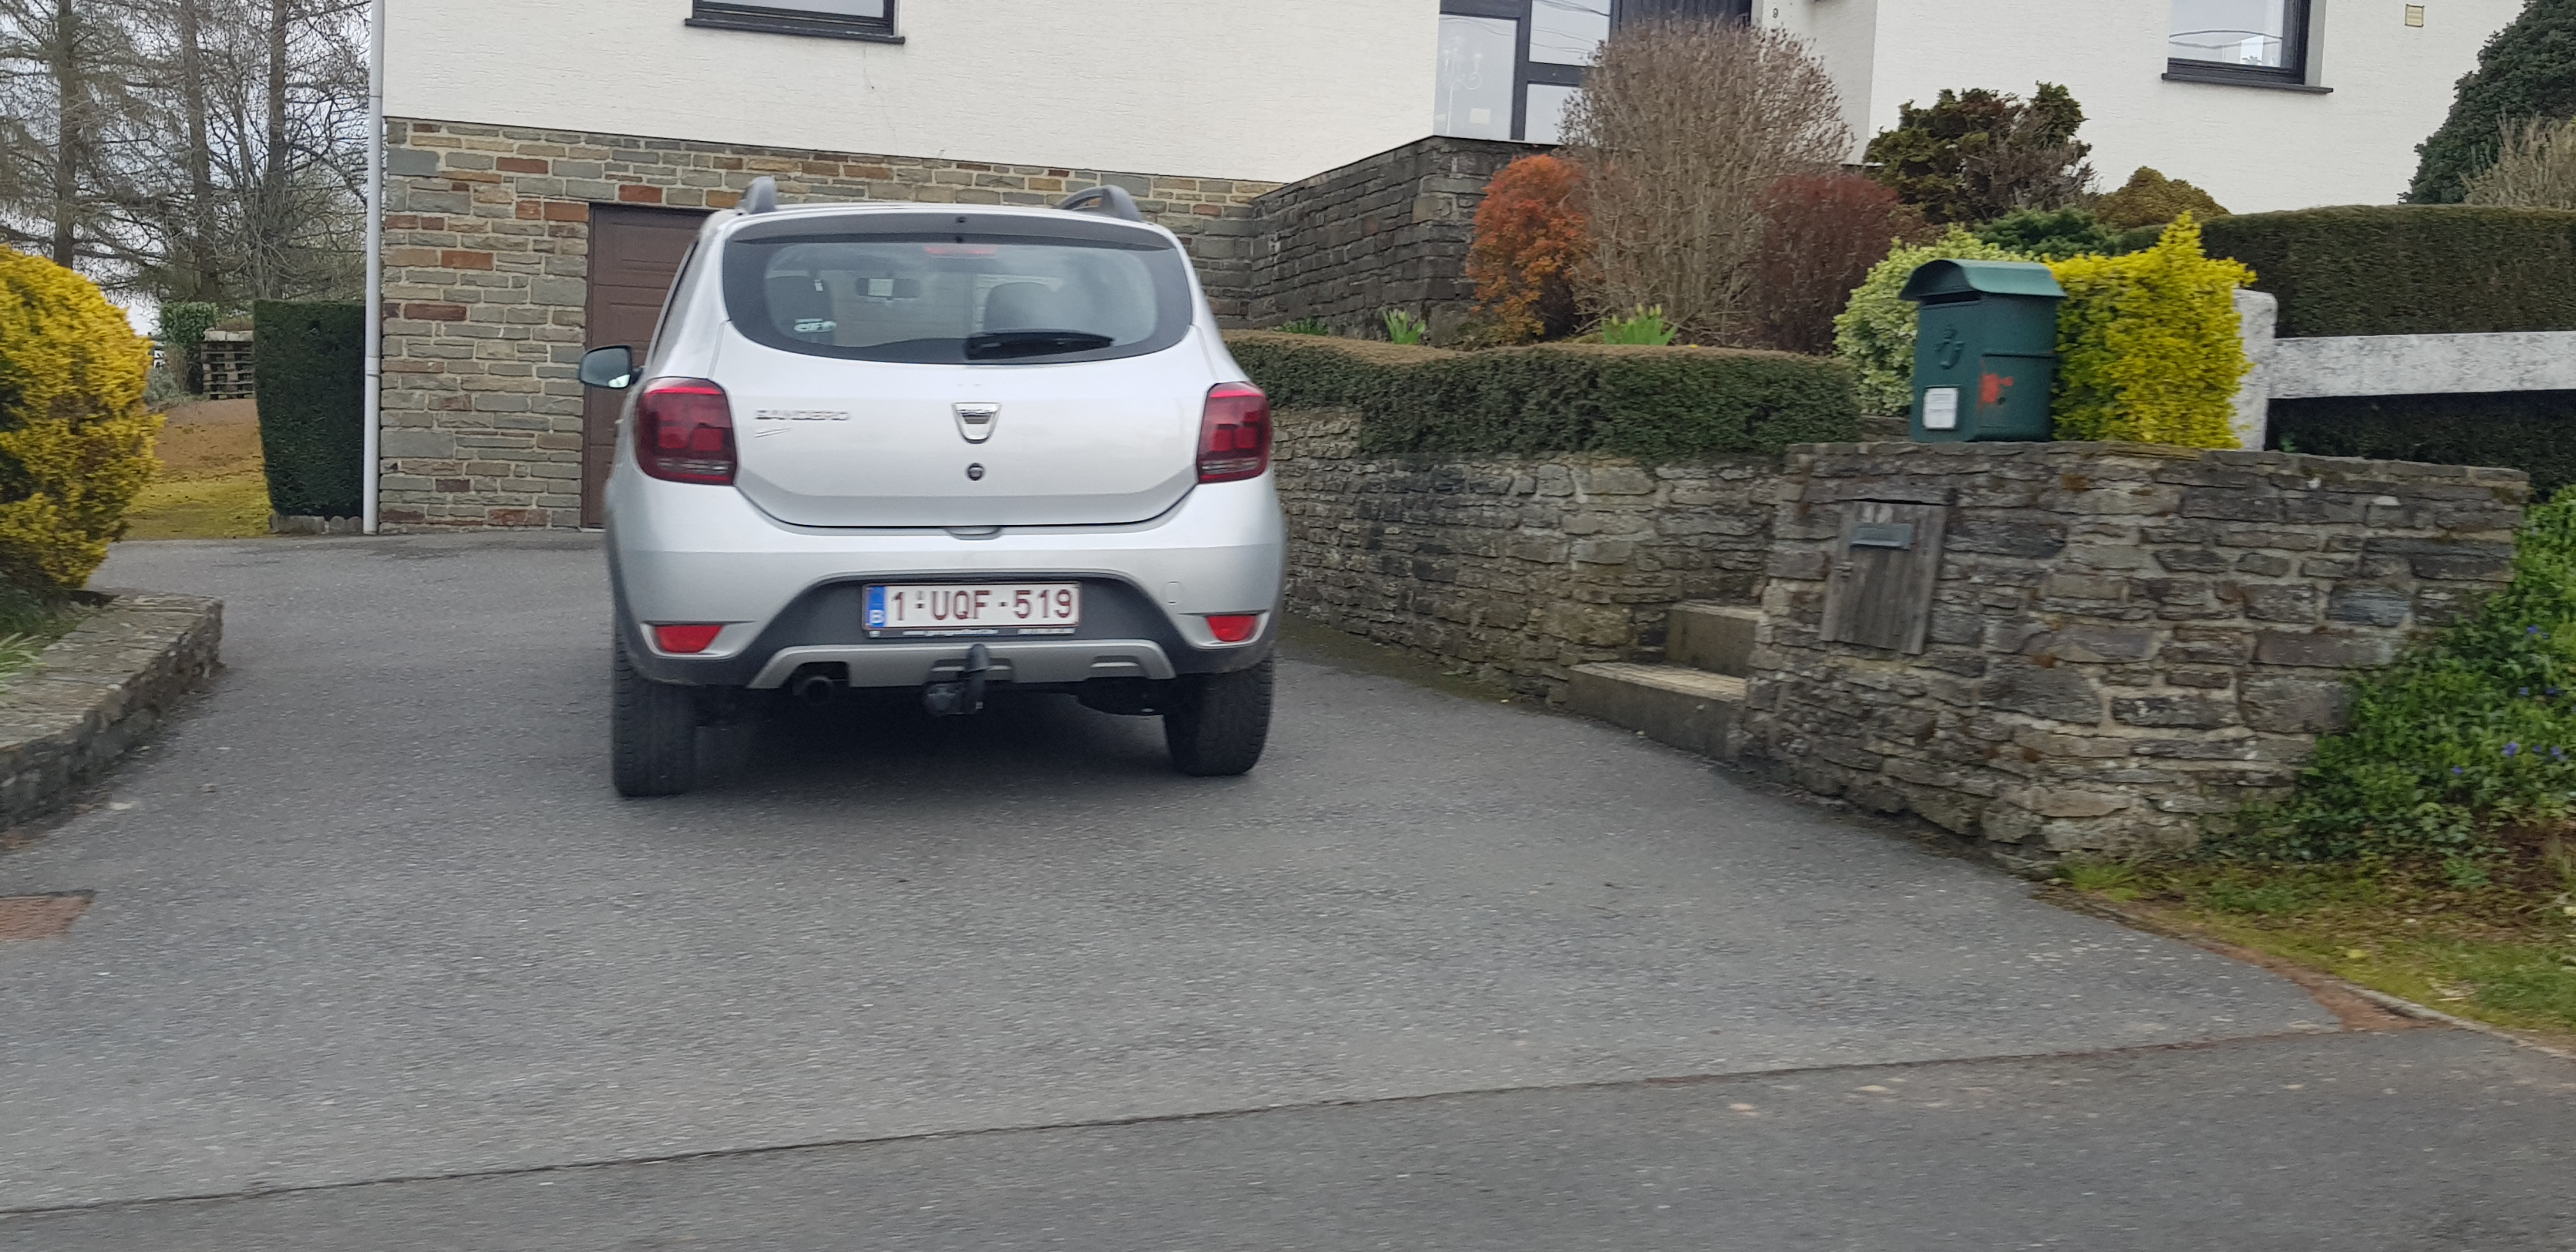licenceplate: (858, 581, 1085, 635)
